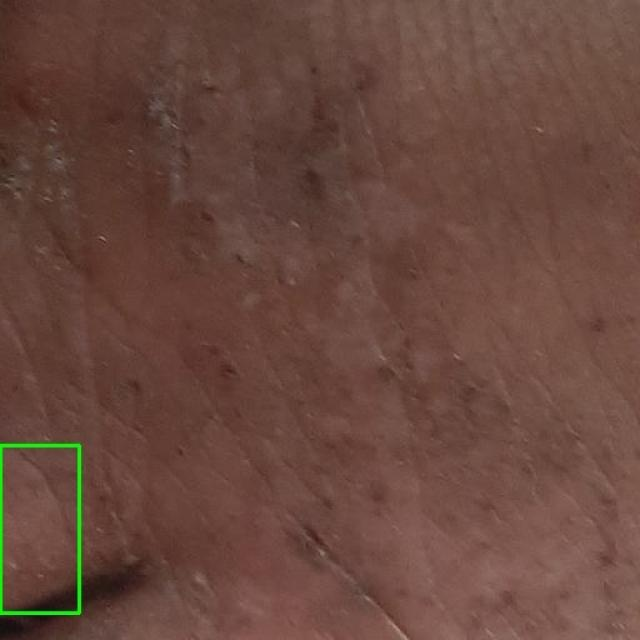Eczema: (0, 445, 79, 612)
